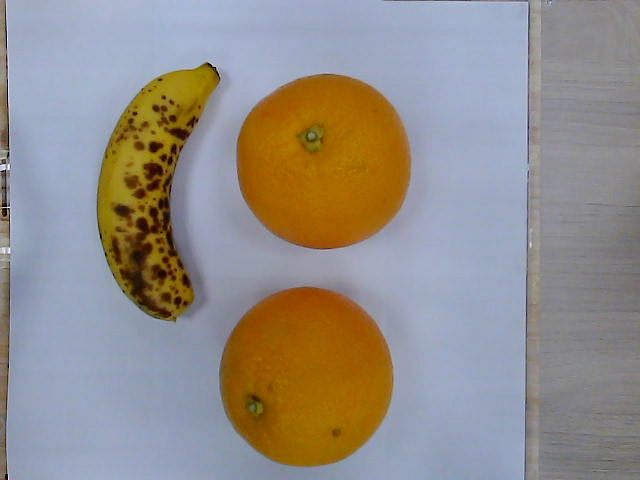fresh_orange: (219, 287, 396, 467), (237, 74, 411, 251)
rotten_banana: (97, 62, 222, 324)
